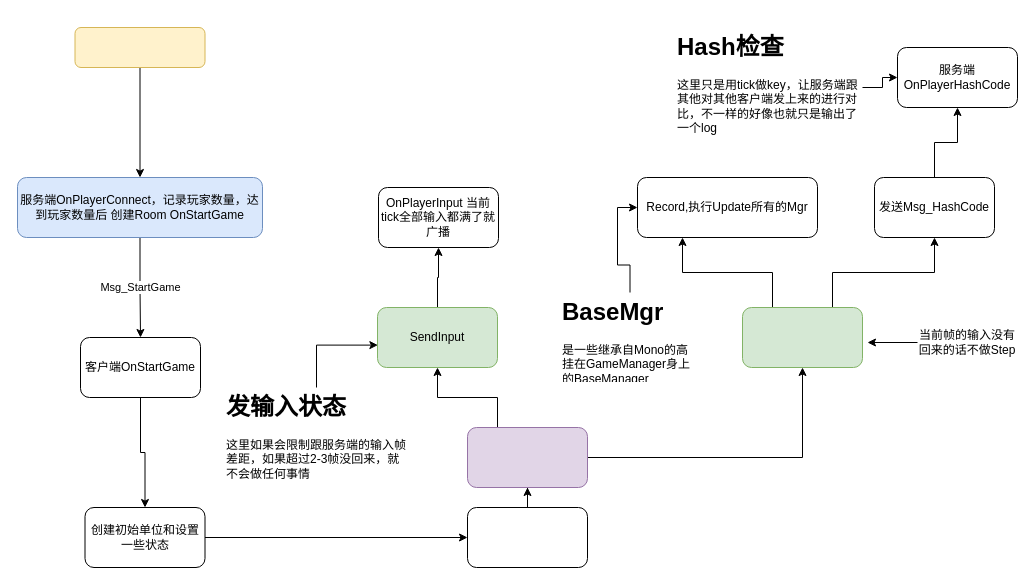
This 1035x585 diagram has some shape labels left out. Here are the shapes that lost their labels. From the top down, the box of each, then its label:
(74, 26, 205, 68): 客户端Msg_JoinRoom加入房间
(742, 306, 862, 368): Step
(466, 426, 588, 488): 更新时间，每隔一个TimeStep执行一次逻辑
(466, 506, 588, 568): 开始执行Update
